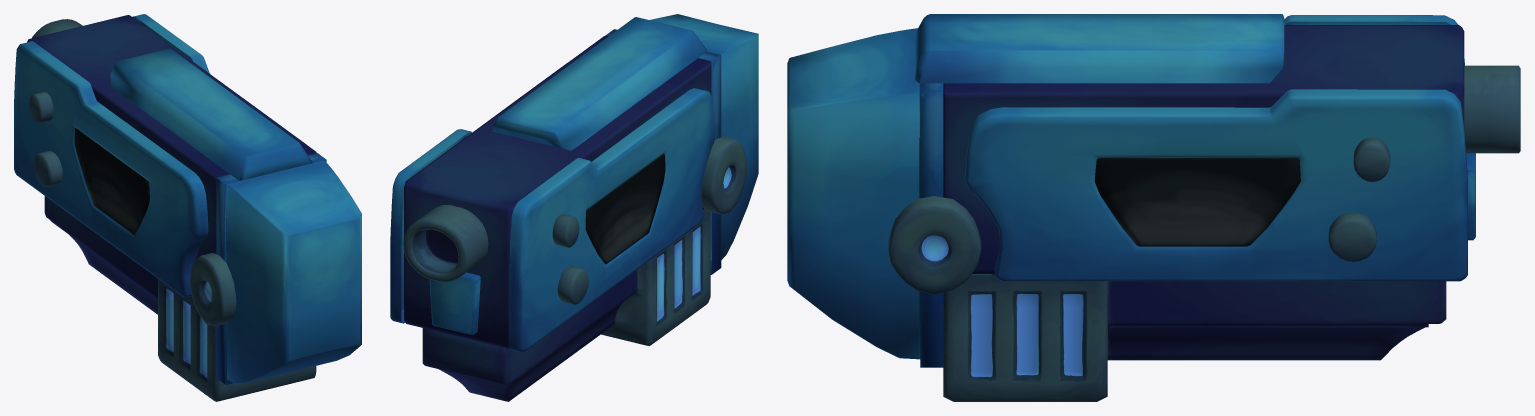
The model's file is ArmaModelo.fbx.
3 renders of one model, left to right at view 1: azimuth 30°, elevation 25°; view 2: azimuth 150°, elevation 25°; view 3: azimuth 270°, elevation 25°, orthographic. The views are drawn at different scales.
Visible parts, largest first — view 1: Cube.002, Cube.005, Cube.003, Cube.001, Cube, Cube.010, Cube.007, Cube.009, Cube.008, Cube.006; view 2: Cube.005, Cube, Cube.001, Cube.003, Cube.002, Cube.006, Cube.010, Cube.007, Cube.004, Cube.009, Cube.008; view 3: Cube.005, Cube.001, Cube.002, Cube.003, Cube, Cube.010, Cube.007, Cube.006, Cube.009, Cube.008, Cube.004.
Boxes of the visible parts, <box> form: Cube.002: <box>216,153,361,384</box>; Cube.005: <box>14,14,306,297</box>; Cube.003: <box>110,48,312,180</box>; Cube.001: <box>44,196,316,401</box>; Cube: <box>27,15,316,258</box>; Cube.010: <box>74,128,149,234</box>; Cube.007: <box>189,252,236,326</box>; Cube.009: <box>33,151,62,187</box>; Cube.008: <box>28,92,53,123</box>; Cube.006: <box>32,19,82,38</box>; Cube.005: <box>390,63,715,352</box>; Cube: <box>404,36,711,348</box>; Cube.001: <box>422,209,710,401</box>; Cube.003: <box>492,17,706,150</box>; Cube.002: <box>605,14,758,274</box>; Cube.006: <box>403,205,488,282</box>; Cube.010: <box>585,154,665,264</box>; Cube.007: <box>701,136,747,214</box>; Cube.004: <box>429,272,480,334</box>; Cube.009: <box>557,266,588,304</box>; Cube.008: <box>552,214,579,247</box>; Cube.005: <box>964,15,1467,281</box>; Cube.001: <box>943,274,1446,401</box>; Cube.002: <box>787,28,943,367</box>; Cube.003: <box>915,14,1284,83</box>; Cube: <box>943,25,1464,274</box>; Cube.010: <box>1094,158,1300,246</box>; Cube.007: <box>888,196,981,294</box>; Cube.006: <box>1464,65,1520,153</box>; Cube.009: <box>1328,212,1376,261</box>; Cube.008: <box>1353,138,1390,181</box>; Cube.004: <box>1466,153,1475,240</box>.
Size of the model in its own units: 420 by 651 by 1279.
Materials: 11 (11 with a texture image).
